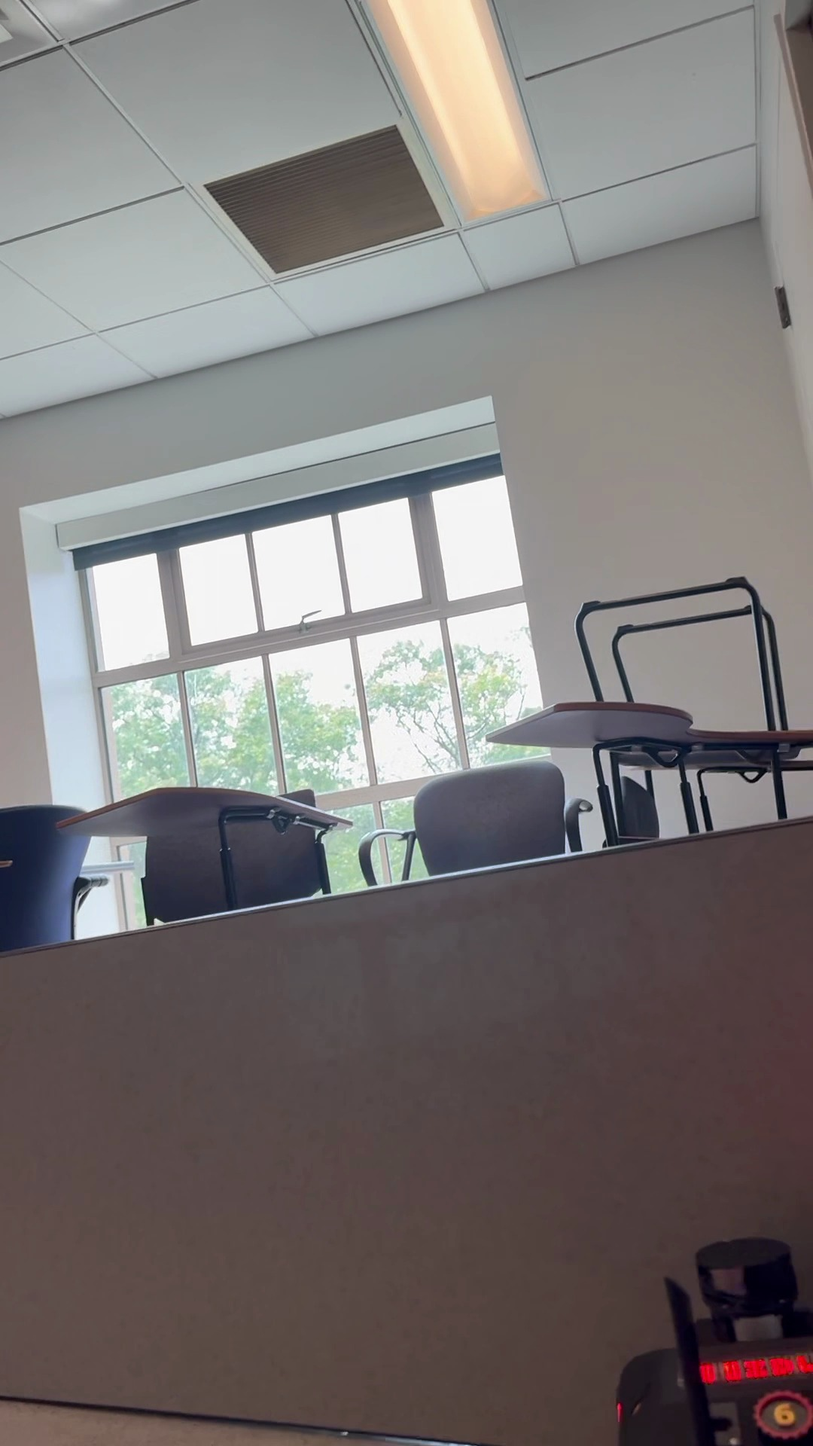racecar: (602, 1238, 813, 1446)
